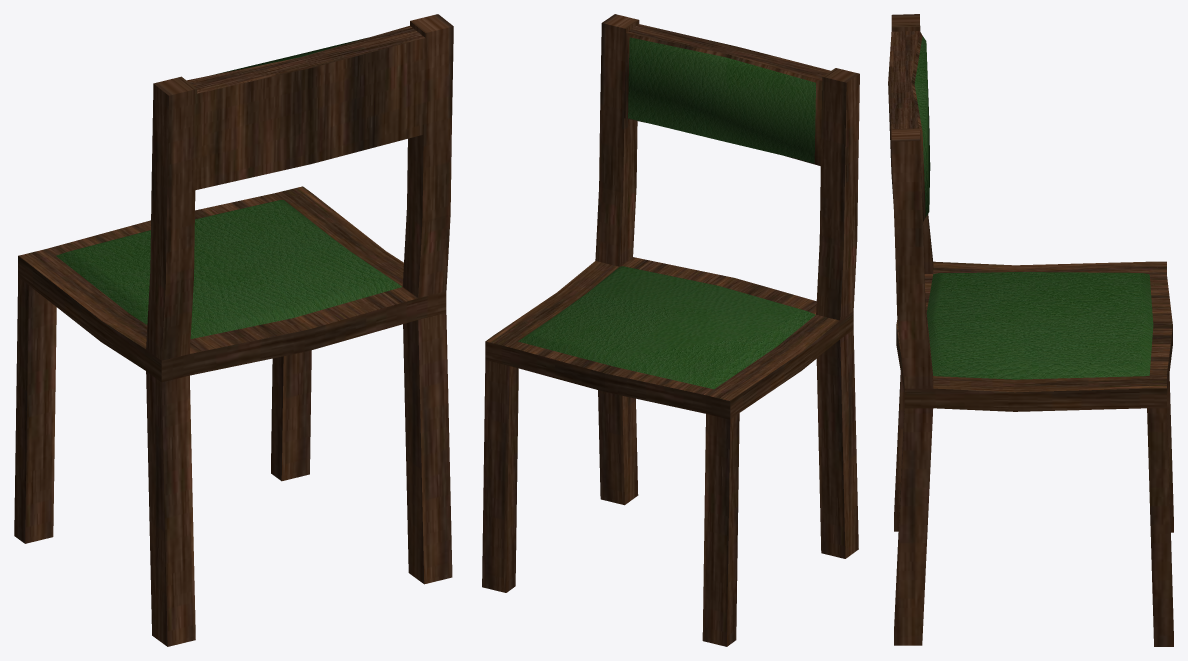
Rendered from WoodenChair.fbx.
3 views of the same model, side by side, from view 1: azimuth 30°, elevation 25°; view 2: azimuth 150°, elevation 25°; view 3: azimuth 270°, elevation 25° (orthographic). The views are drawn at different scales.
Parts seen in each view (by area): view 1: Cube.026; view 2: Cube.026; view 3: Cube.026.
Part boxes in pixels (bbox=[...]): Cube.026: bbox=[14, 14, 453, 646]; Cube.026: bbox=[482, 14, 859, 646]; Cube.026: bbox=[888, 14, 1173, 646].
Size of the model in its own units: 125 by 233 by 119.
